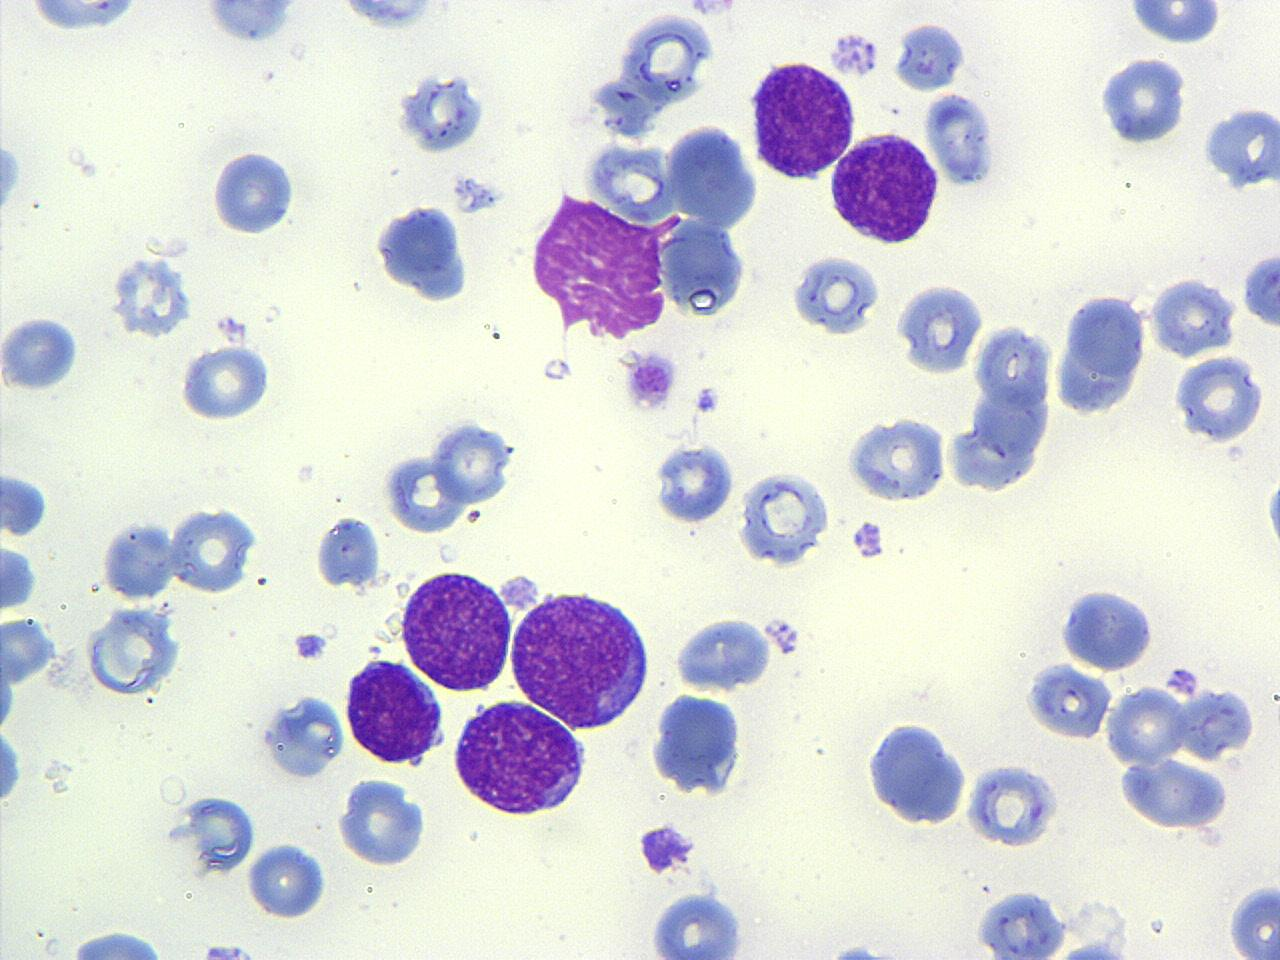Platelets: (1097, 51, 1187, 150), (790, 252, 884, 339), (176, 338, 272, 422), (398, 68, 486, 156), (922, 90, 998, 189), (645, 889, 751, 959), (1022, 658, 1112, 740), (111, 256, 194, 341), (1202, 103, 1280, 191), (892, 21, 970, 94), (1123, 2, 1225, 47), (622, 346, 680, 414), (1227, 882, 1279, 956), (335, 1, 441, 34), (1, 470, 51, 539), (1240, 250, 1280, 332), (826, 31, 882, 79), (449, 171, 503, 216), (637, 824, 681, 876), (0, 728, 23, 812), (0, 138, 22, 218), (850, 519, 886, 563), (1056, 939, 1128, 960), (1263, 476, 1280, 554), (1165, 666, 1201, 696), (291, 630, 328, 659), (829, 941, 882, 960), (686, 0, 738, 19), (201, 941, 250, 960), (693, 383, 723, 415)
RBC: (662, 120, 762, 230), (892, 279, 985, 377), (1114, 755, 1230, 831), (972, 319, 1054, 418), (1147, 272, 1241, 359), (795, 251, 887, 338), (1024, 658, 1114, 742), (382, 450, 467, 534), (1104, 684, 1188, 766), (244, 839, 328, 922), (99, 517, 176, 601), (1226, 882, 1280, 958)
WBC: (716, 0, 1278, 548), (489, 0, 991, 434), (517, 59, 775, 358), (1013, 608, 1280, 890), (1098, 648, 1262, 836), (507, 584, 656, 733), (945, 314, 1060, 496), (449, 696, 594, 821), (398, 566, 516, 694), (827, 128, 944, 248), (748, 56, 860, 182), (1050, 288, 1150, 419), (862, 716, 972, 831), (1102, 667, 1194, 801), (342, 656, 447, 770), (646, 689, 750, 799), (83, 597, 187, 701), (372, 201, 474, 308), (734, 466, 833, 572), (668, 124, 766, 231), (844, 412, 950, 506), (1170, 350, 1270, 450), (334, 772, 434, 870), (618, 7, 714, 106), (892, 280, 986, 378), (1096, 56, 1190, 151), (1058, 583, 1158, 673), (962, 762, 1061, 851), (672, 613, 779, 694), (1117, 754, 1227, 832), (209, 146, 300, 239), (166, 506, 260, 597), (428, 415, 519, 508), (177, 340, 277, 423), (395, 70, 488, 158), (260, 691, 348, 784), (1145, 272, 1239, 359), (974, 318, 1055, 416), (644, 888, 753, 960), (172, 792, 259, 880), (652, 438, 736, 528), (383, 450, 467, 538), (974, 886, 1076, 958), (1201, 101, 1279, 192), (0, 311, 82, 395), (99, 518, 175, 602), (7, 0, 162, 37), (892, 20, 968, 94), (312, 513, 382, 591), (200, 1, 310, 47), (328, 0, 450, 35), (63, 926, 176, 958), (1240, 247, 1280, 336), (0, 532, 42, 616), (0, 470, 50, 536), (0, 724, 25, 818)
